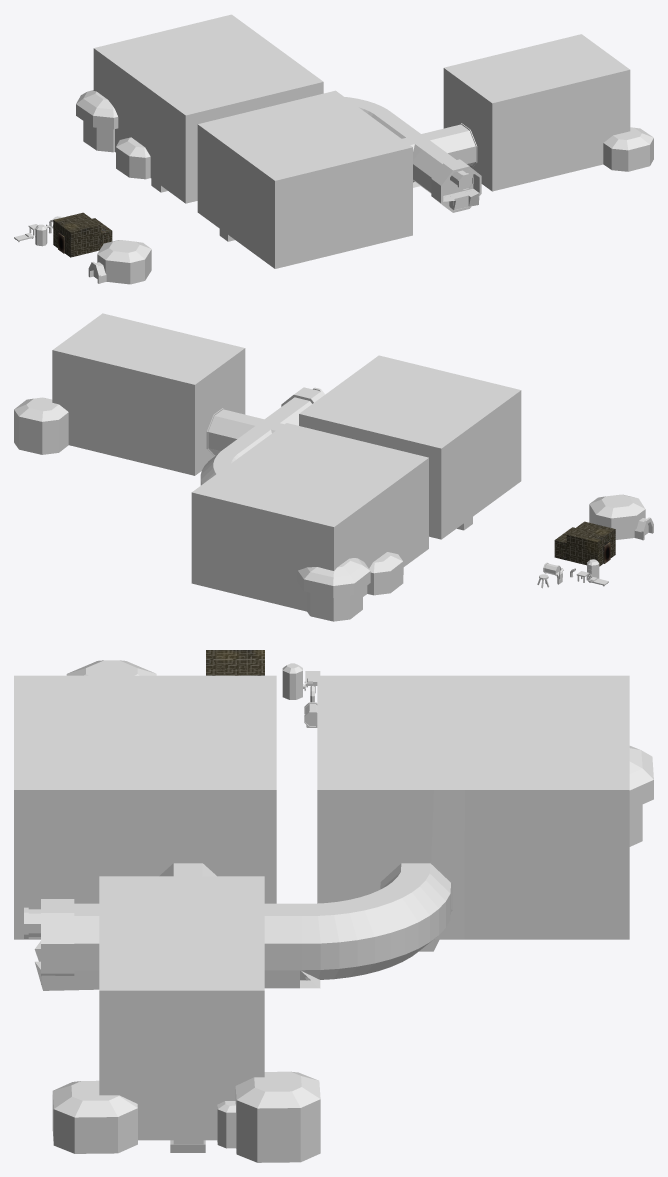
Rendered from start blyaaaaa.fbx.
3 renders of one model, top to bottom at view 1: azimuth 30°, elevation 25°; view 2: azimuth 150°, elevation 25°; view 3: azimuth 270°, elevation 25°, orthographic. The views are drawn at different scales.
Visible parts, largest first — view 1: Cube.019, Cube.035, Cube.017, Cube.016, Cube.038, Cube.014, Cube.004, Cube.023; view 2: Cube.035, Cube.017, Cube.019, Cube.038, Cube.016, Cube.025, Cube.004, Cube.014; view 3: Cube.035, Cube.019, Cube.017, Cube.016, Cube.025, Cube.023, Cube.021, Cube.038, Cube.004, Cube.014, Cube.009.
Part boxes in pixels (x1,y1,x2,y2): Cube.019: (197, 90, 412, 268); Cube.035: (93, 14, 323, 203); Cube.017: (443, 34, 630, 191); Cube.016: (345, 97, 481, 212); Cube.038: (76, 90, 150, 179); Cube.014: (97, 240, 151, 284); Cube.004: (53, 212, 112, 257); Cube.023: (603, 127, 653, 171); Cube.035: (191, 423, 428, 611); Cube.017: (52, 313, 245, 475); Cube.019: (299, 355, 521, 539); Cube.038: (297, 552, 403, 621); Cube.016: (200, 387, 323, 485); Cube.025: (14, 397, 68, 454); Cube.004: (554, 521, 615, 566); Cube.014: (589, 494, 645, 539); Cube.035: (317, 675, 629, 951); Cube.019: (14, 675, 276, 939); Cube.017: (99, 876, 264, 1144); Cube.016: (41, 861, 452, 984); Cube.025: (217, 1071, 320, 1162); Cube.023: (52, 1080, 137, 1153); Cube.021: (34, 941, 320, 990); Cube.038: (629, 746, 653, 846); Cube.004: (206, 650, 264, 675); Cube.014: (66, 660, 156, 675); Cube.009: (282, 663, 302, 699).
Bounding box in the file's own units: 15102 × 2618 × 8528.
